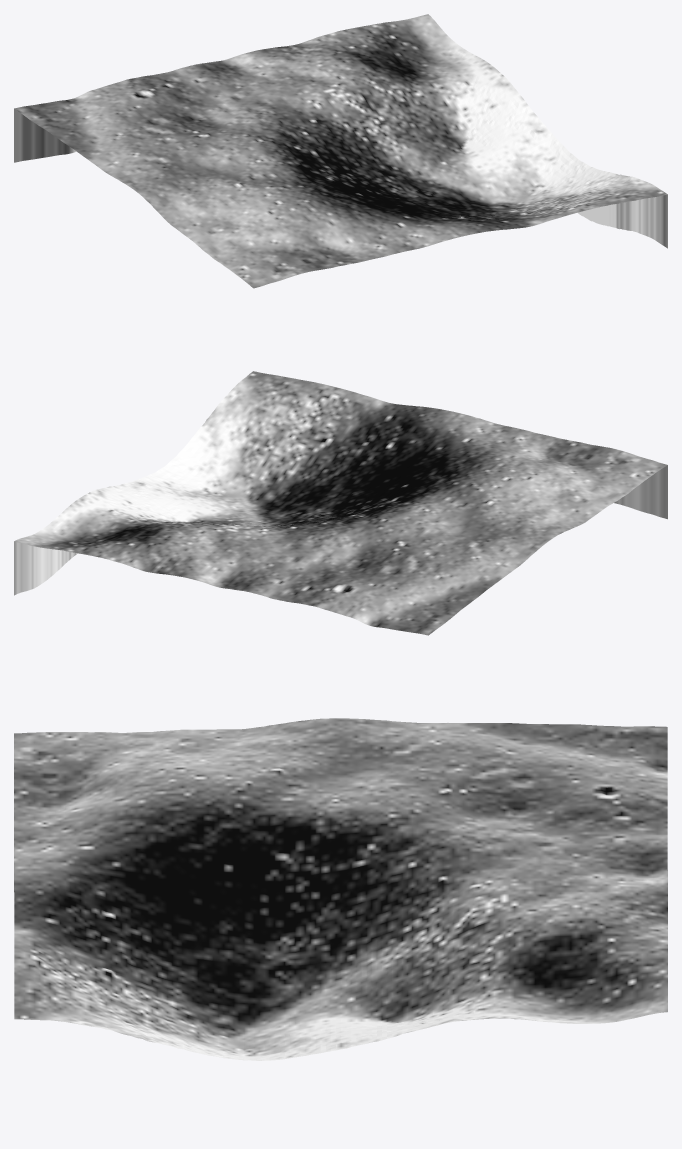
The picture shows the model from 3 angles, top to bottom: view 1: azimuth 30°, elevation 25°; view 2: azimuth 150°, elevation 25°; view 3: azimuth 270°, elevation 25°; orthographic projection. The views are drawn at different scales.
Size of the model in its own units: 639 by 155 by 639.
1 material, 1 textured.
